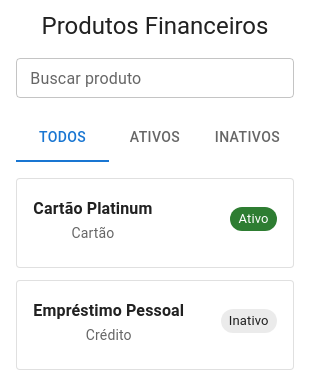
Scenario: ProductsPage › filtra produtos pelo nome digitado
The width and height of the screenshot is (320, 387).
Expected: the heading "Cartão Platinum" is shown, [33,195,152,223]
Type "Platinum" into the field labelled "Buscar produto" at (155,78), box [16,58,294,98]
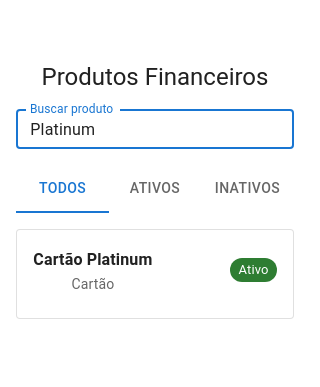
Expected: the heading "Cartão Platinum" is shown, [33,246,152,274]
Expected: the heading "Empréstimo Pessoal" is gone
